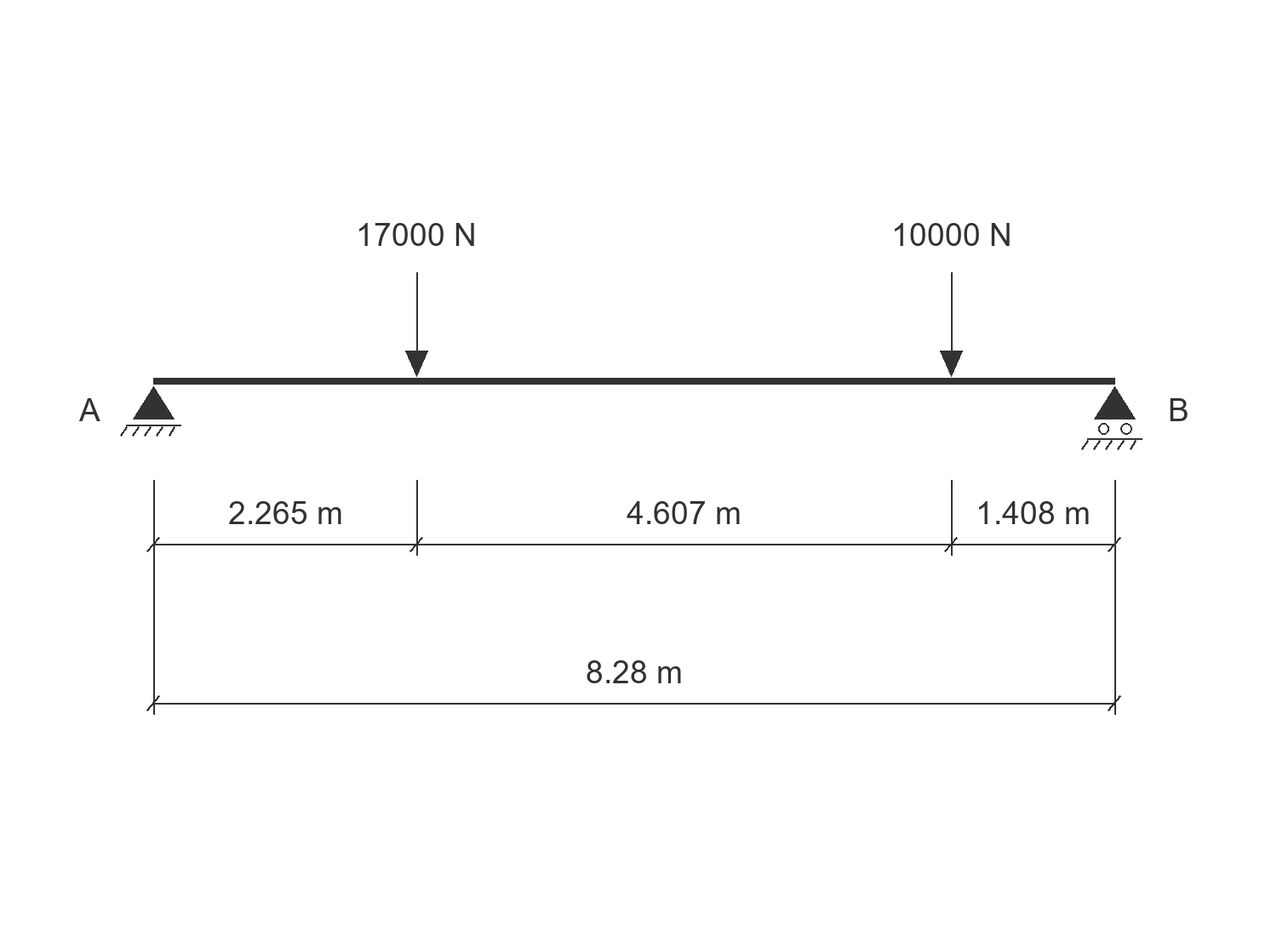pin_support: (120, 386, 181, 437)
point_load: (405, 272, 428, 377), (940, 272, 963, 377)
roller_support: (1081, 386, 1142, 450)
